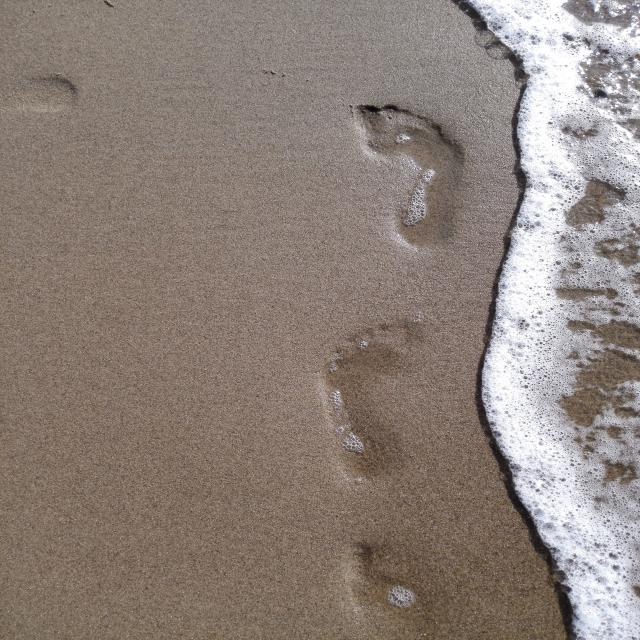human_foot_print: (220, 75, 497, 640)
